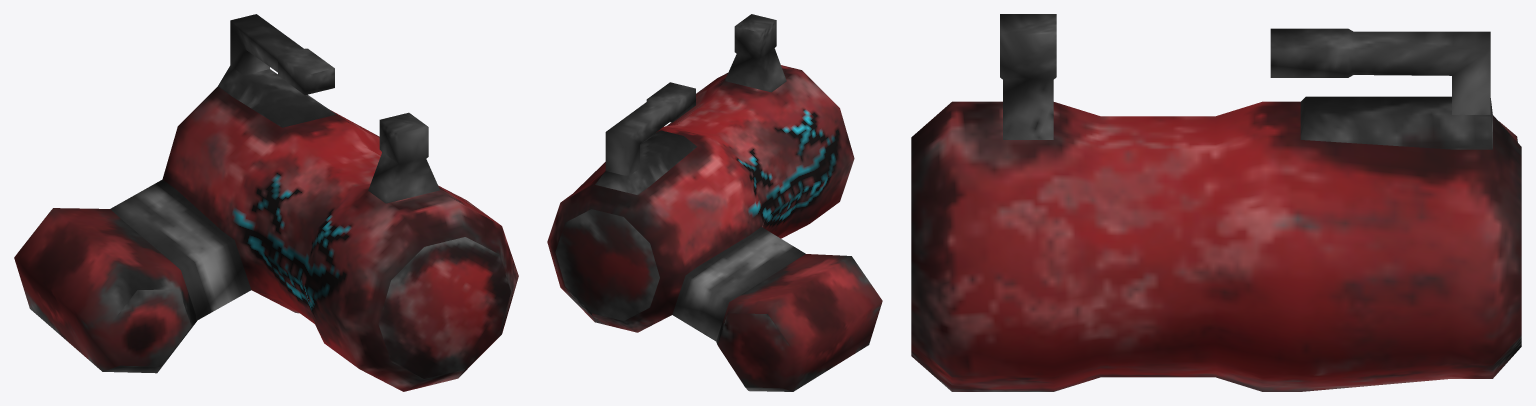
File: Minigun.fbx
3 renders of one model, left to right at view 1: azimuth 30°, elevation 25°; view 2: azimuth 150°, elevation 25°; view 3: azimuth 270°, elevation 25°, orthographic. The views are drawn at different scales.
Parts seen in each view (by area): view 1: Minigun; view 2: Minigun; view 3: Minigun.
Part boxes in pixels (x1=…): Minigun: x1=14, y1=14, x2=518, y2=391; Minigun: x1=547, y1=14, x2=882, y2=391; Minigun: x1=911, y1=14, x2=1521, y2=391.
Bounding box in the file's own units: 1.03 × 0.833 × 1.18.
